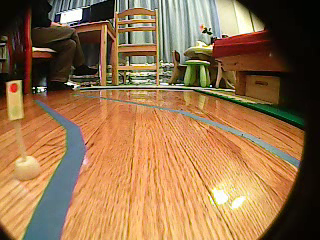Red Traffic Light: (5, 79, 26, 121)
